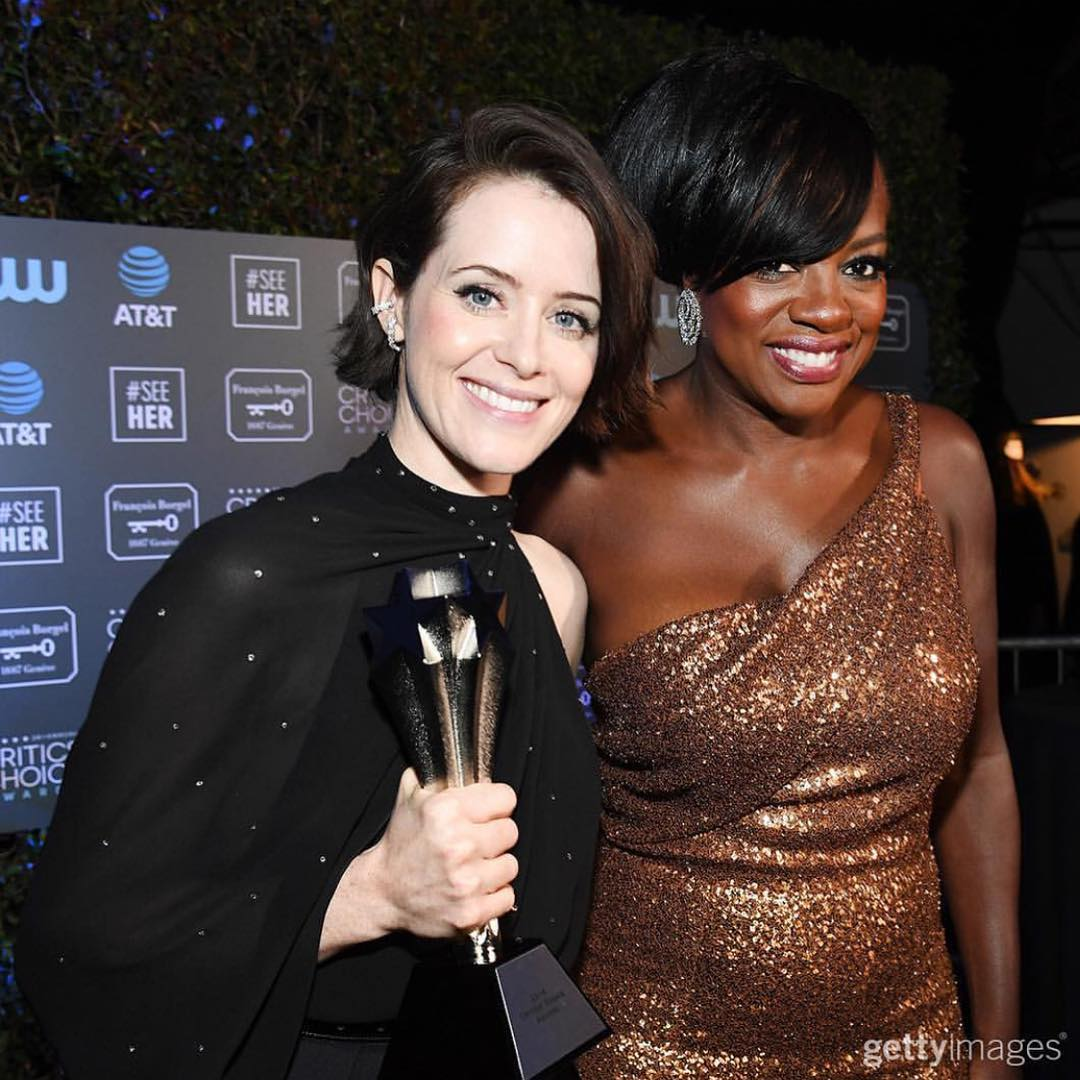hand: (340, 773, 511, 916)
